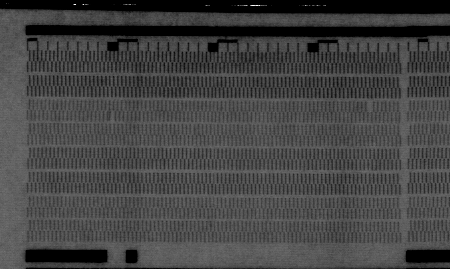Broken hole: (363, 101, 377, 114)
Oblique printing: (105, 110, 117, 122)
